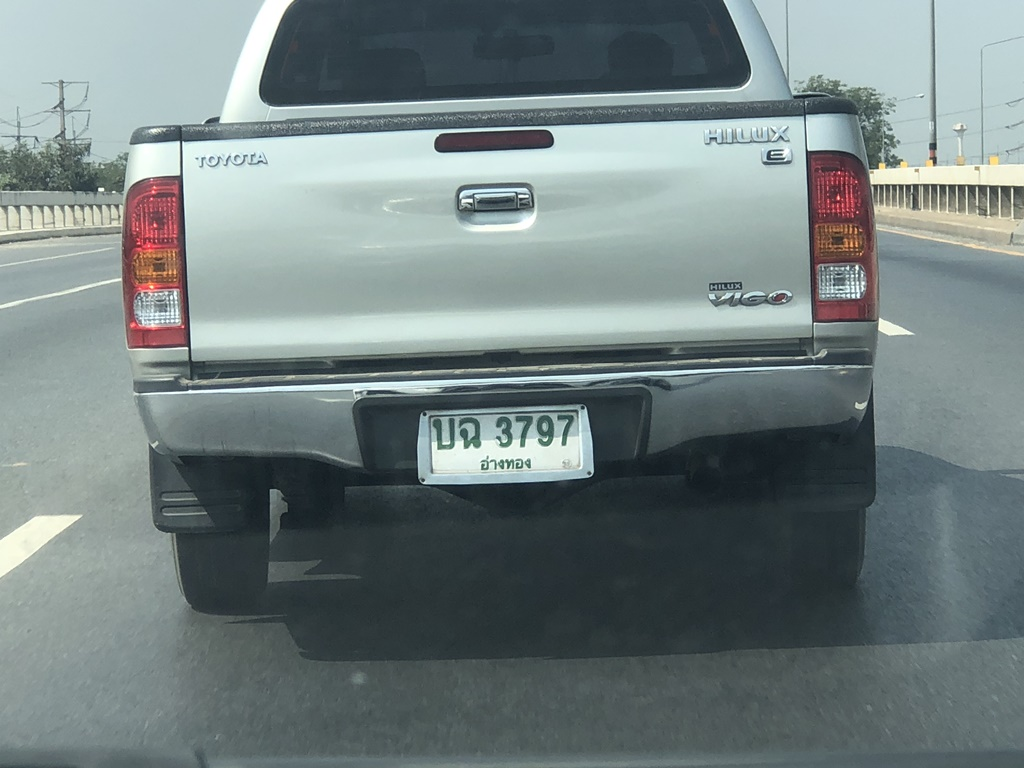plate: (416, 406, 602, 484)
seven: (551, 408, 581, 456), (513, 412, 538, 452)
three: (490, 409, 519, 456)
